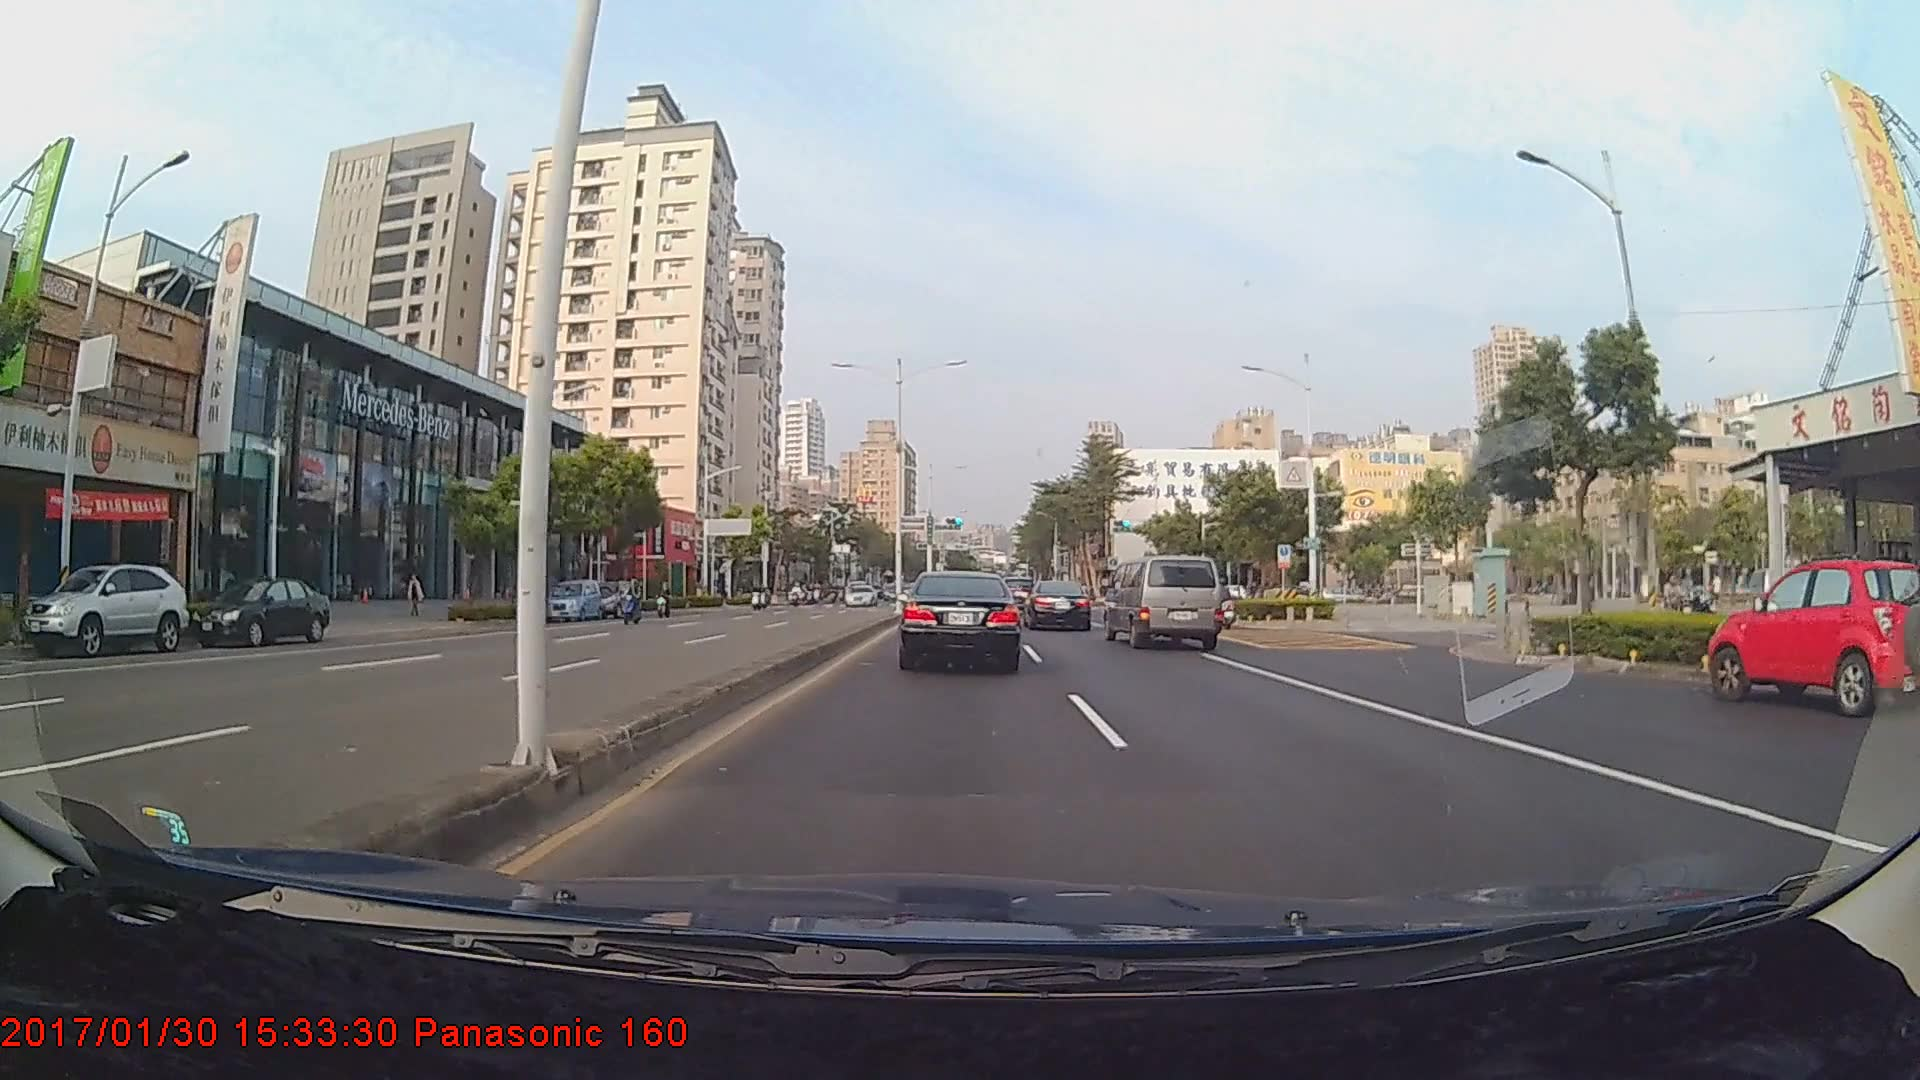pedestrian: (404, 572, 427, 619)
rider: (619, 576, 649, 628)
vehicle: (1704, 553, 1920, 718), (20, 563, 188, 658), (901, 568, 1019, 672), (1104, 554, 1224, 651), (191, 576, 331, 648), (1023, 579, 1093, 632), (542, 579, 603, 623), (589, 579, 641, 620), (843, 584, 879, 608)
